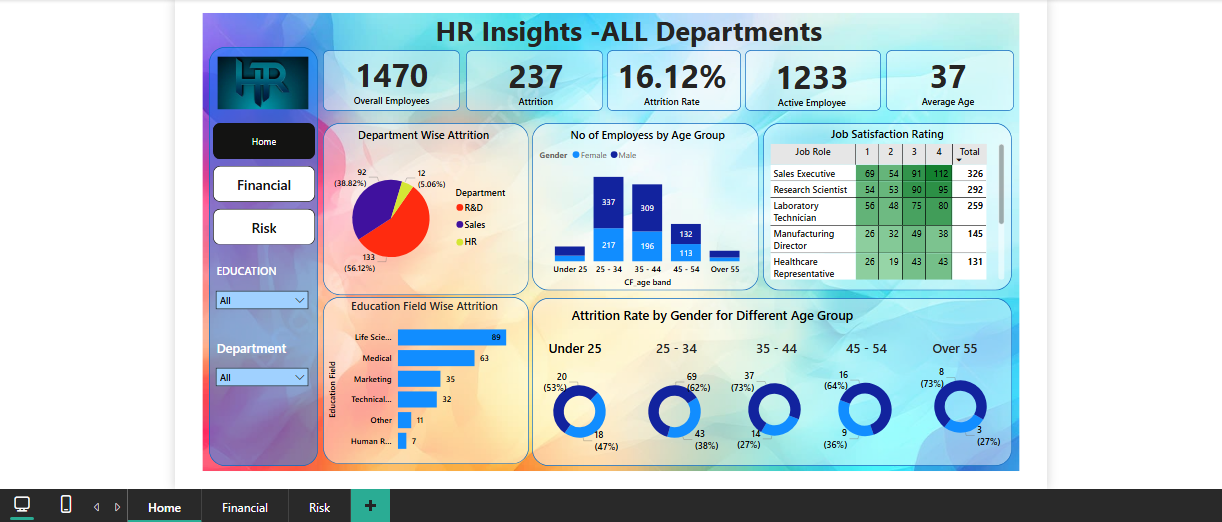

What the dashboard file says about the page in this screenshot:
{"tool":"powerbi","page":{"name":"Page 1","canvas":[1280,720],"ordinal":0},"visuals":[{"type":"shape","box":[48.2,72.9,227.1,90.8],"z":0},{"type":"shape","box":[286.3,73.7,227,91.1],"z":1000},{"type":"shape","box":[526.3,73.7,227,91.1],"z":2000},{"type":"shape","box":[764.8,73.7,227,91.1],"z":3000},{"type":"shape","box":[1003.4,73.7,227,91.1],"z":4000},{"type":"card","fields":{"Values":["_Measures.Overall Employees"]},"box":[47.7,73.7,227,91.1],"z":5000},{"type":"card","fields":{"Values":["_Measures.Attrition Rate"]},"box":[526.3,73.7,227,91.1],"z":6000},{"type":"card","fields":{"Values":["_Measures.Attrition"]},"box":[286.3,73.7,227,91.1],"z":7000},{"type":"card","fields":{"Values":["_Measures.Active Employee"]},"box":[764.8,73.7,227,91.1],"z":8000},{"type":"card","fields":{"Values":["_Measures.Average Attrition"]},"box":[1003.4,73.7,227,91.1],"z":9000},{"type":"shape","box":[47.7,176.4,362.9,253],"z":10000},{"type":"pieChart","title":"Department Wise Attrition","fields":{"Category":["HR data.Department"],"Y":["_Measures.Attrition"]},"box":[58.8,181.4,341,235.2],"z":11000},{"type":"shape","box":[422.2,176.4,384.6,253],"z":12000},{"type":"shape","box":[821.2,182.2,409.2,247.2],"z":13000},{"type":"columnChart","title":"No of Employess by Age Group","fields":{"Category":["HR data.CF_age band"],"Series":["HR data.Gender"],"Y":["Sum(HR data.Employee Count)"]},"box":[433.7,186.5,360,229.9],"z":14000},{"type":"pivotTable","title":"Job Satisfaction Rating","fields":{"Rows":["HR data.Job Role"],"Columns":["HR data.Job Satisfaction"],"Values":["Sum(HR data.Employee Count)"]},"box":[835.7,186.5,383.1,229.9],"z":15000},{"type":"shape","box":[47.7,439.5,280.5,245.8],"z":16000},{"type":"barChart","title":"Education Field Wise Attrition","fields":{"Category":["HR data.Education Field"],"Y":["_Measures.Attrition"]},"box":[59.3,446.7,251.6,225.5],"z":17000},{"type":"shape","box":[338.3,439.5,892,247.2],"z":18000},{"type":"donutChart","fields":{"Series":["HR data.CF_age band"],"Category":["HR data.Gender"],"Y":["Sum(HR data.Attrition Count)"]},"box":[344.1,524.4,194.1,154.2],"z":19000},{"type":"donutChart","fields":{"Series":["HR data.CF_age band"],"Category":["HR data.Gender"],"Y":["Sum(HR data.Attrition Count)"]},"box":[524.4,524.4,176.2,154.2],"z":20000},{"type":"donutChart","fields":{"Series":["HR data.CF_age band"],"Category":["HR data.Gender"],"Y":["Sum(HR data.Attrition Count)"]},"box":[688.7,524.1,176.4,154.5],"z":21000},{"type":"donutChart","fields":{"Series":["HR data.CF_age band"],"Category":["HR data.Gender"],"Y":["Sum(HR data.Attrition Count)"]},"box":[882.2,524.4,176.2,154.2],"z":22000},{"type":"donutChart","fields":{"Series":["HR data.CF_age band"],"Category":["HR data.Gender"],"Y":["Sum(HR data.Attrition Count)"]},"box":[1041.9,524.4,176.2,154.2],"z":23000},{"type":"textbox","box":[576.9,446.7,433.7,39],"z":24000},{"type":"textbox","box":[391.8,495.9,104.1,37.6],"z":25000},{"type":"textbox","box":[578.3,497.3,76.6,37.6],"z":26000},{"type":"textbox","box":[734.5,495.9,76.6,37.6],"z":27000},{"type":"textbox","box":[928.2,500.2,76.6,37.6],"z":28000},{"type":"textbox","box":[1088.7,495.9,76.6,37.6],"z":29000},{"type":"textbox","box":[72.9,15.1,441.8,64.7],"z":30000},{"type":"slicer","fields":{"Values":["HR data.Education"]},"box":[529.1,16.8,705.5,57.1],"z":31000}]}

Visuals, with their boxes on the page's 1280x720 design canvas (x1, y1, x2, y2). These are canvas units, not pixel positions in the 1222x522 screenshot, which may show the page scaled, cropped or inside an application window:
shape: [48, 73, 275, 164]
shape: [286, 74, 513, 165]
shape: [526, 74, 753, 165]
shape: [765, 74, 992, 165]
shape: [1003, 74, 1230, 165]
card - _Measures.Overall Employees: [48, 74, 275, 165]
card - _Measures.Attrition Rate: [526, 74, 753, 165]
card - _Measures.Attrition: [286, 74, 513, 165]
card - _Measures.Active Employee: [765, 74, 992, 165]
card - _Measures.Average Attrition: [1003, 74, 1230, 165]
shape: [48, 176, 411, 429]
"Department Wise Attrition" pieChart: [59, 181, 400, 417]
shape: [422, 176, 807, 429]
shape: [821, 182, 1230, 429]
"No of Employess by Age Group" columnChart: [434, 186, 794, 416]
"Job Satisfaction Rating" pivotTable: [836, 186, 1219, 416]
shape: [48, 440, 328, 685]
"Education Field Wise Attrition" barChart: [59, 447, 311, 672]
shape: [338, 440, 1230, 687]
donutChart - HR data.CF_age band x HR data.Gender: [344, 524, 538, 679]
donutChart - HR data.CF_age band x HR data.Gender: [524, 524, 701, 679]
donutChart - HR data.CF_age band x HR data.Gender: [689, 524, 865, 679]
donutChart - HR data.CF_age band x HR data.Gender: [882, 524, 1058, 679]
donutChart - HR data.CF_age band x HR data.Gender: [1042, 524, 1218, 679]
textbox: [577, 447, 1011, 486]
textbox: [392, 496, 496, 534]
textbox: [578, 497, 655, 535]
textbox: [734, 496, 811, 534]
textbox: [928, 500, 1005, 538]
textbox: [1089, 496, 1165, 534]
textbox: [73, 15, 515, 80]
slicer - HR data.Education: [529, 17, 1235, 74]
